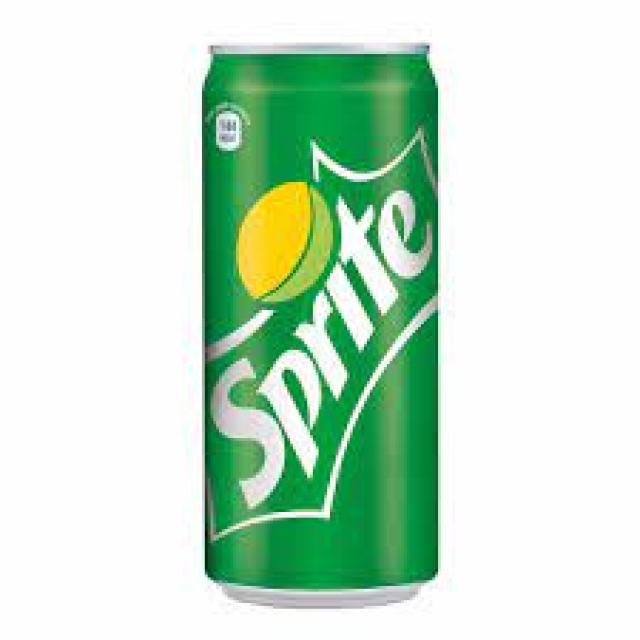aluminum_can: (202, 46, 441, 607)
